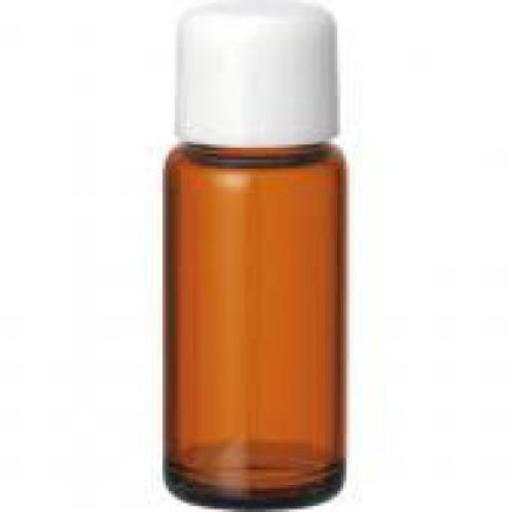glass: (162, 142, 344, 510)
plastic: (171, 0, 335, 145)
